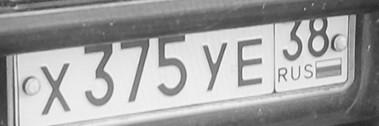license-plateSW: (12, 10, 354, 126)
